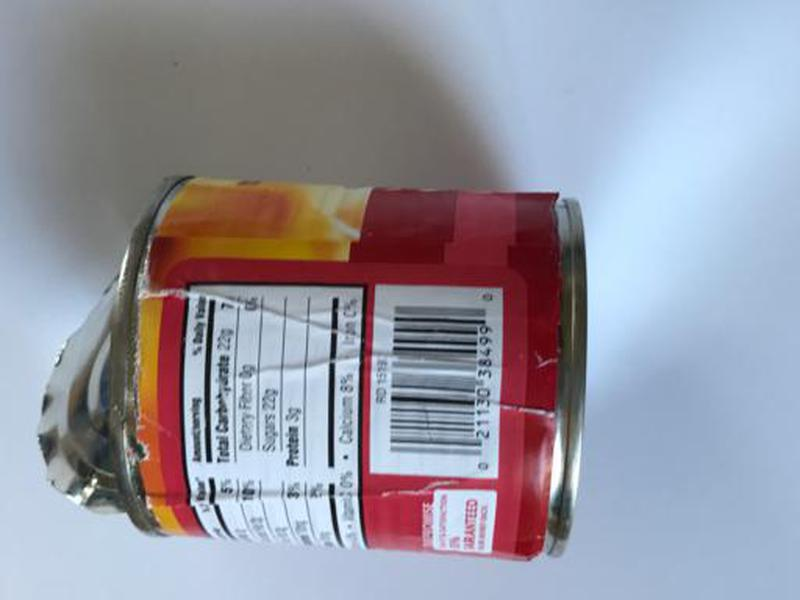can: (30, 171, 594, 565)
